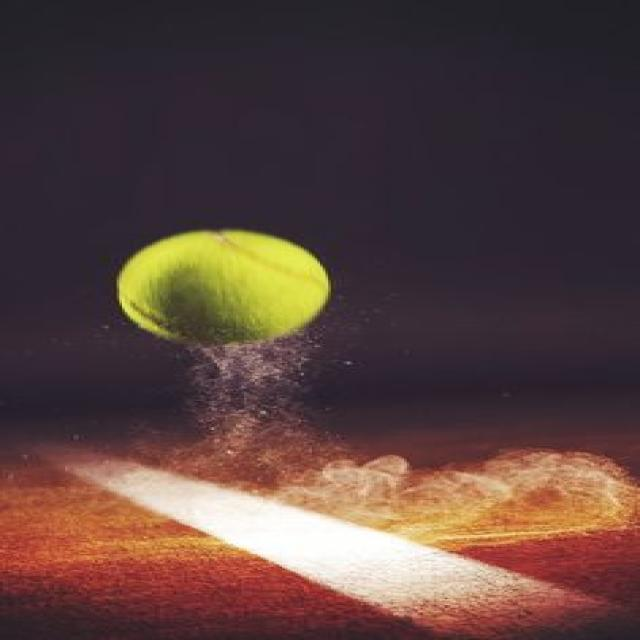tennis: (109, 228, 330, 352)
